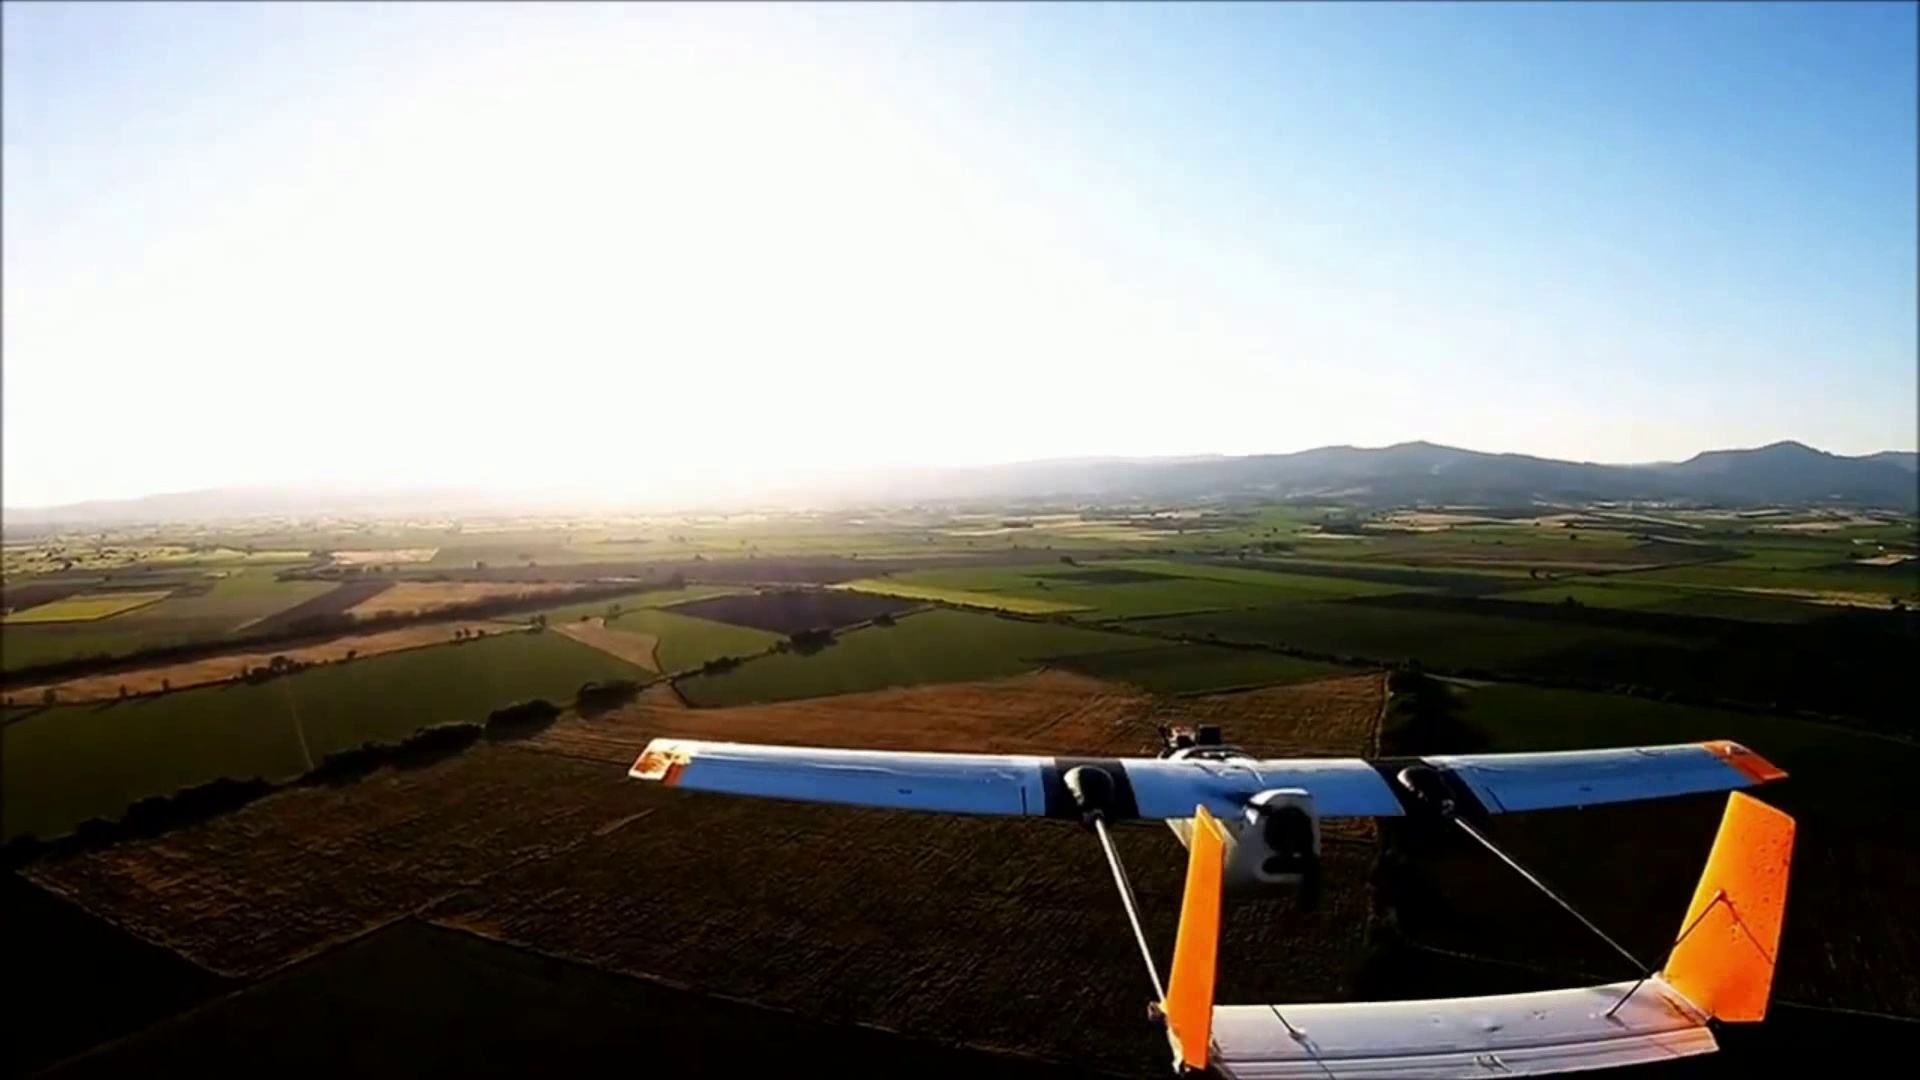airplane: (634, 738, 1797, 1065)
